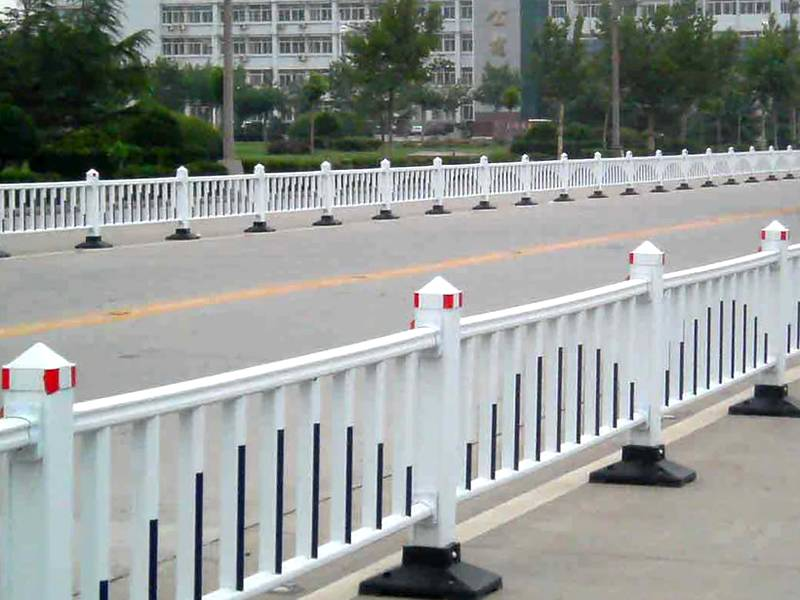Fence: (28, 322, 534, 560), (441, 243, 800, 500), (6, 152, 800, 230)
